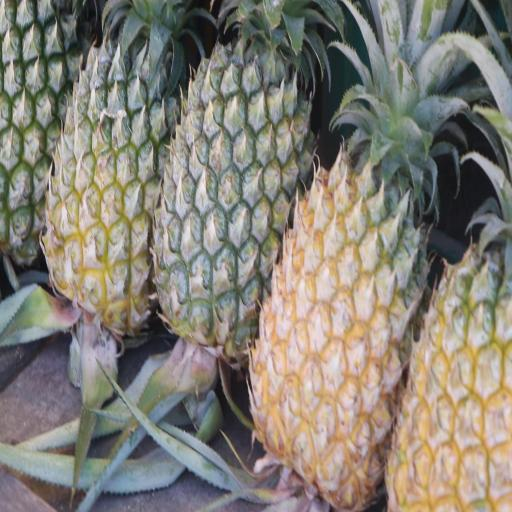------------------------------: (38, 0, 190, 349)
Pineapple - v8 v1: (244, 0, 442, 512), (386, 158, 512, 508)
